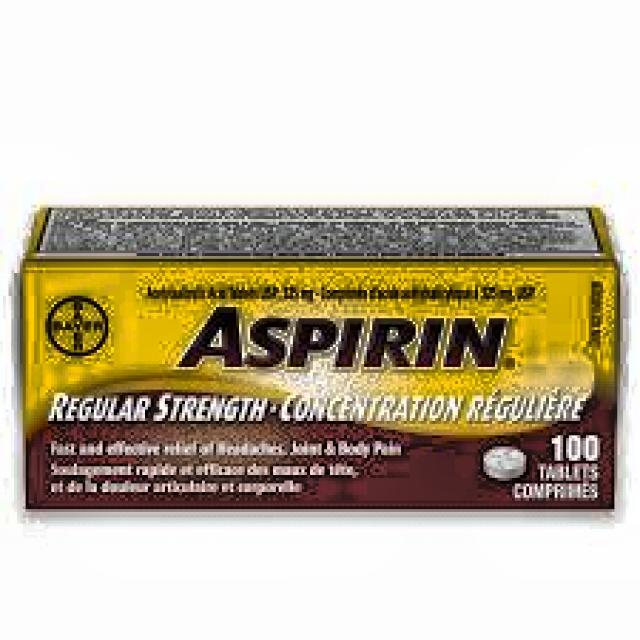Aspirin: (23, 266, 613, 508)
